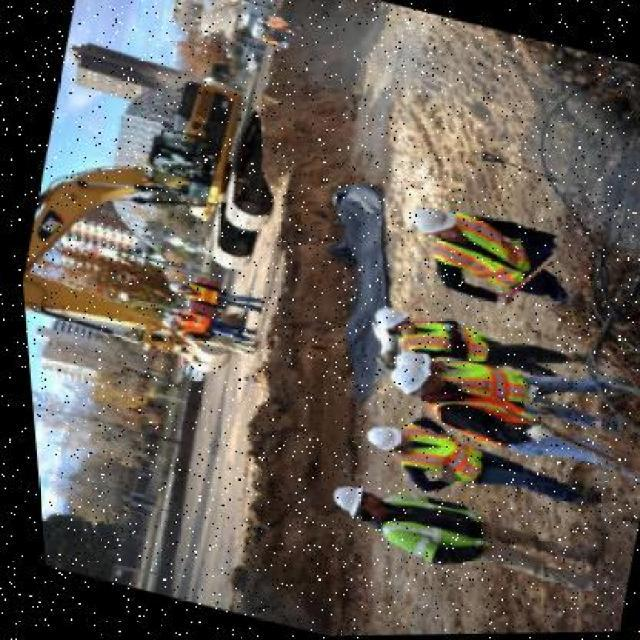helmet: (372, 346, 438, 405), (402, 196, 458, 238), (314, 477, 360, 522), (352, 420, 398, 452), (363, 302, 399, 333)
vest: (375, 493, 493, 568), (443, 226, 537, 290), (392, 423, 478, 484), (451, 355, 515, 403)
